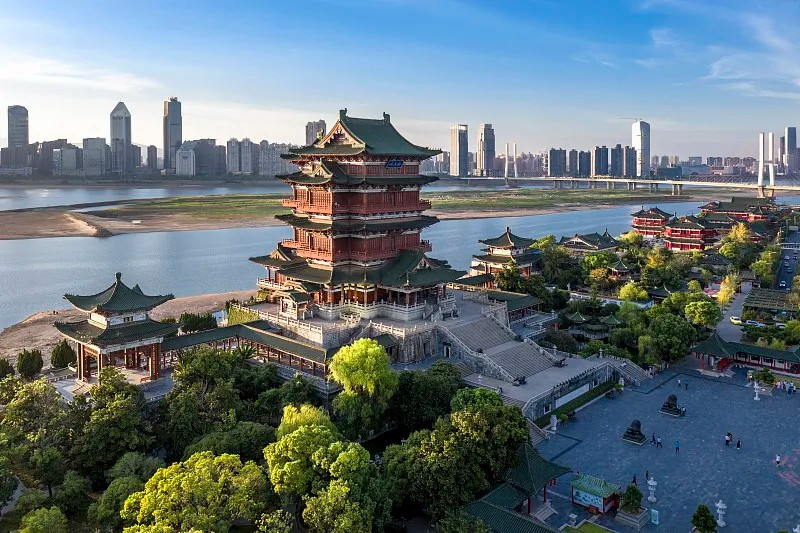Teng: (249, 109, 467, 312)
